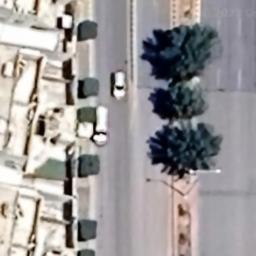SUV: (110, 70, 130, 102)
truck: (90, 104, 116, 148)
